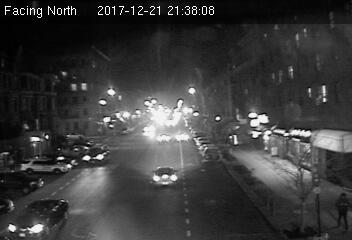car: (5, 199, 71, 238), (81, 145, 110, 164), (151, 166, 178, 185), (156, 132, 170, 143), (176, 132, 190, 143)
